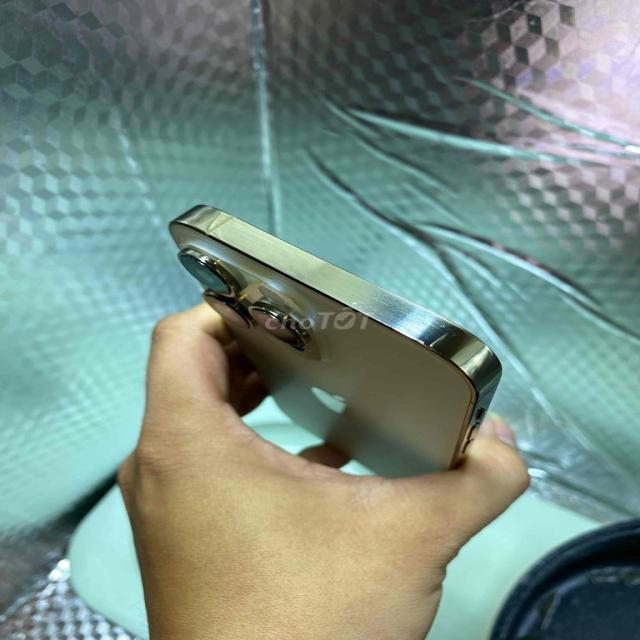gen_14: (153, 204, 507, 487)
